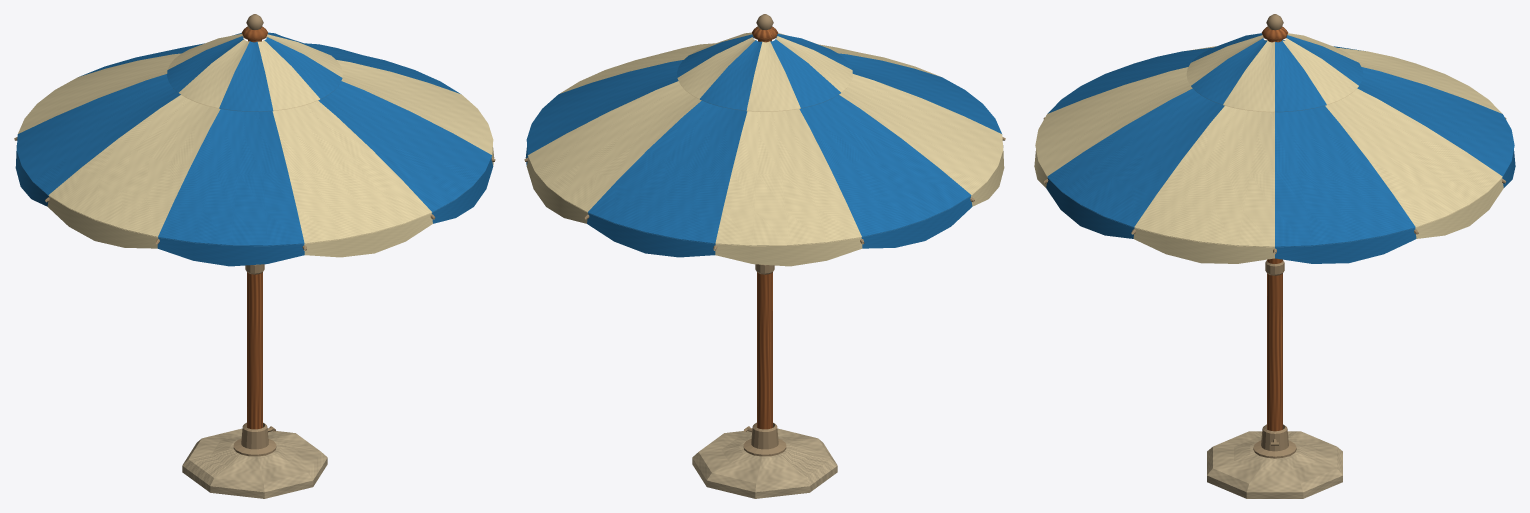
Rendered from parasol.glb.
The picture shows the model from 3 angles, left to right: view 1: azimuth 30°, elevation 25°; view 2: azimuth 150°, elevation 25°; view 3: azimuth 270°, elevation 25°; orthographic projection.
Parts seen in each view (by area): view 1: parasol; view 2: parasol; view 3: parasol.
Boxes of the visible parts, <box> form: parasol: <box>14,14,495,498</box>; parasol: <box>524,14,1005,498</box>; parasol: <box>1034,14,1515,498</box>.
Size of the model in its own units: 2.64 by 2.72 by 2.61.
4 materials, 3 textured.
